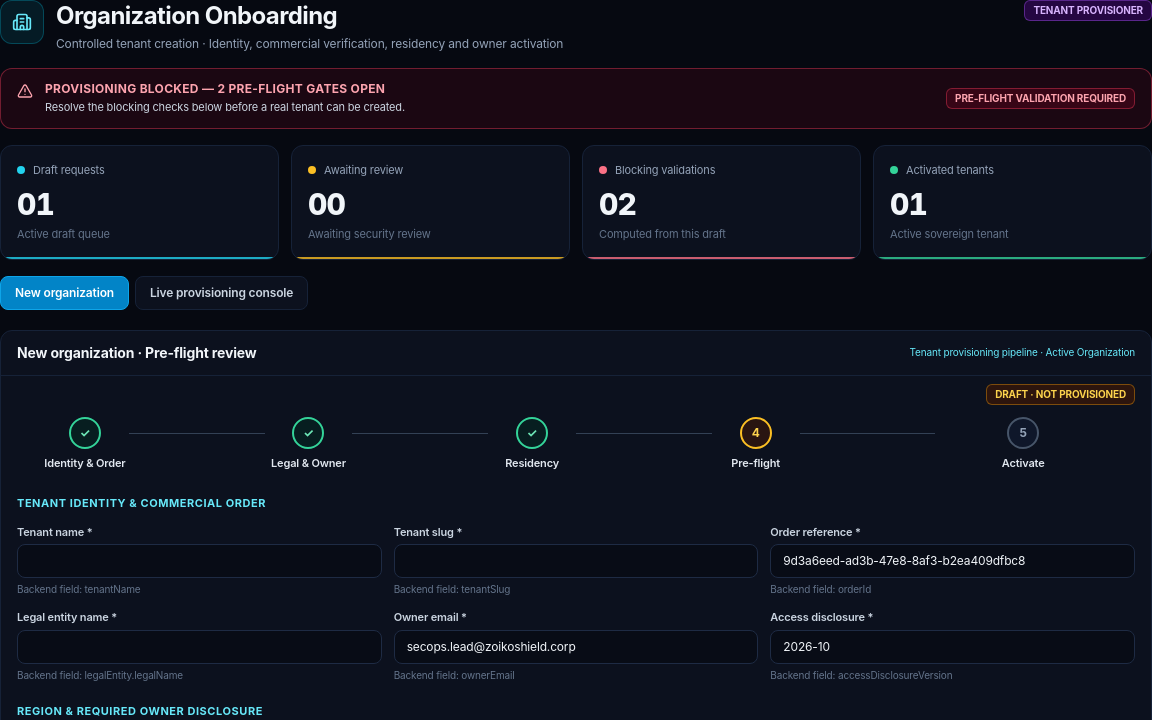
Scenario: Mockup workspace pages › /onboarding hides the live console until its tab is selected
The image size is (1152, 720).
Click the tab "Live provisioning console".
click(222, 292)  # box [135,276,308,310]
(page scrolled)
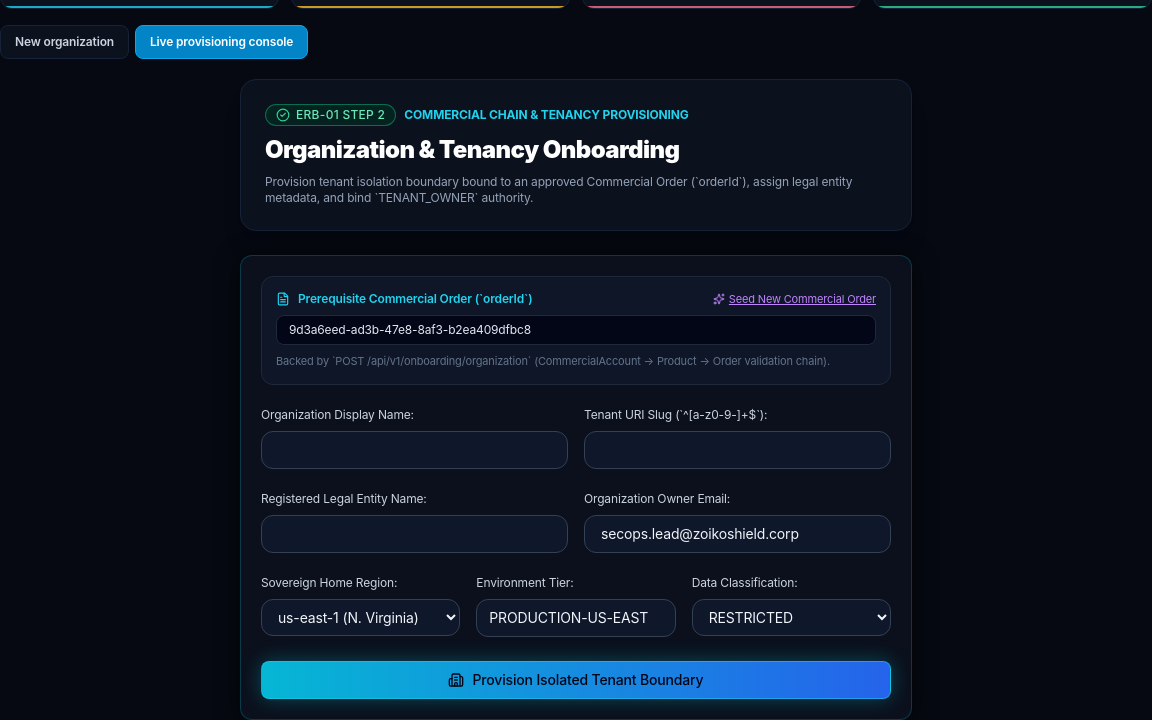
Now the element with test id "live-console" is shown, box [240,78,912,719]
